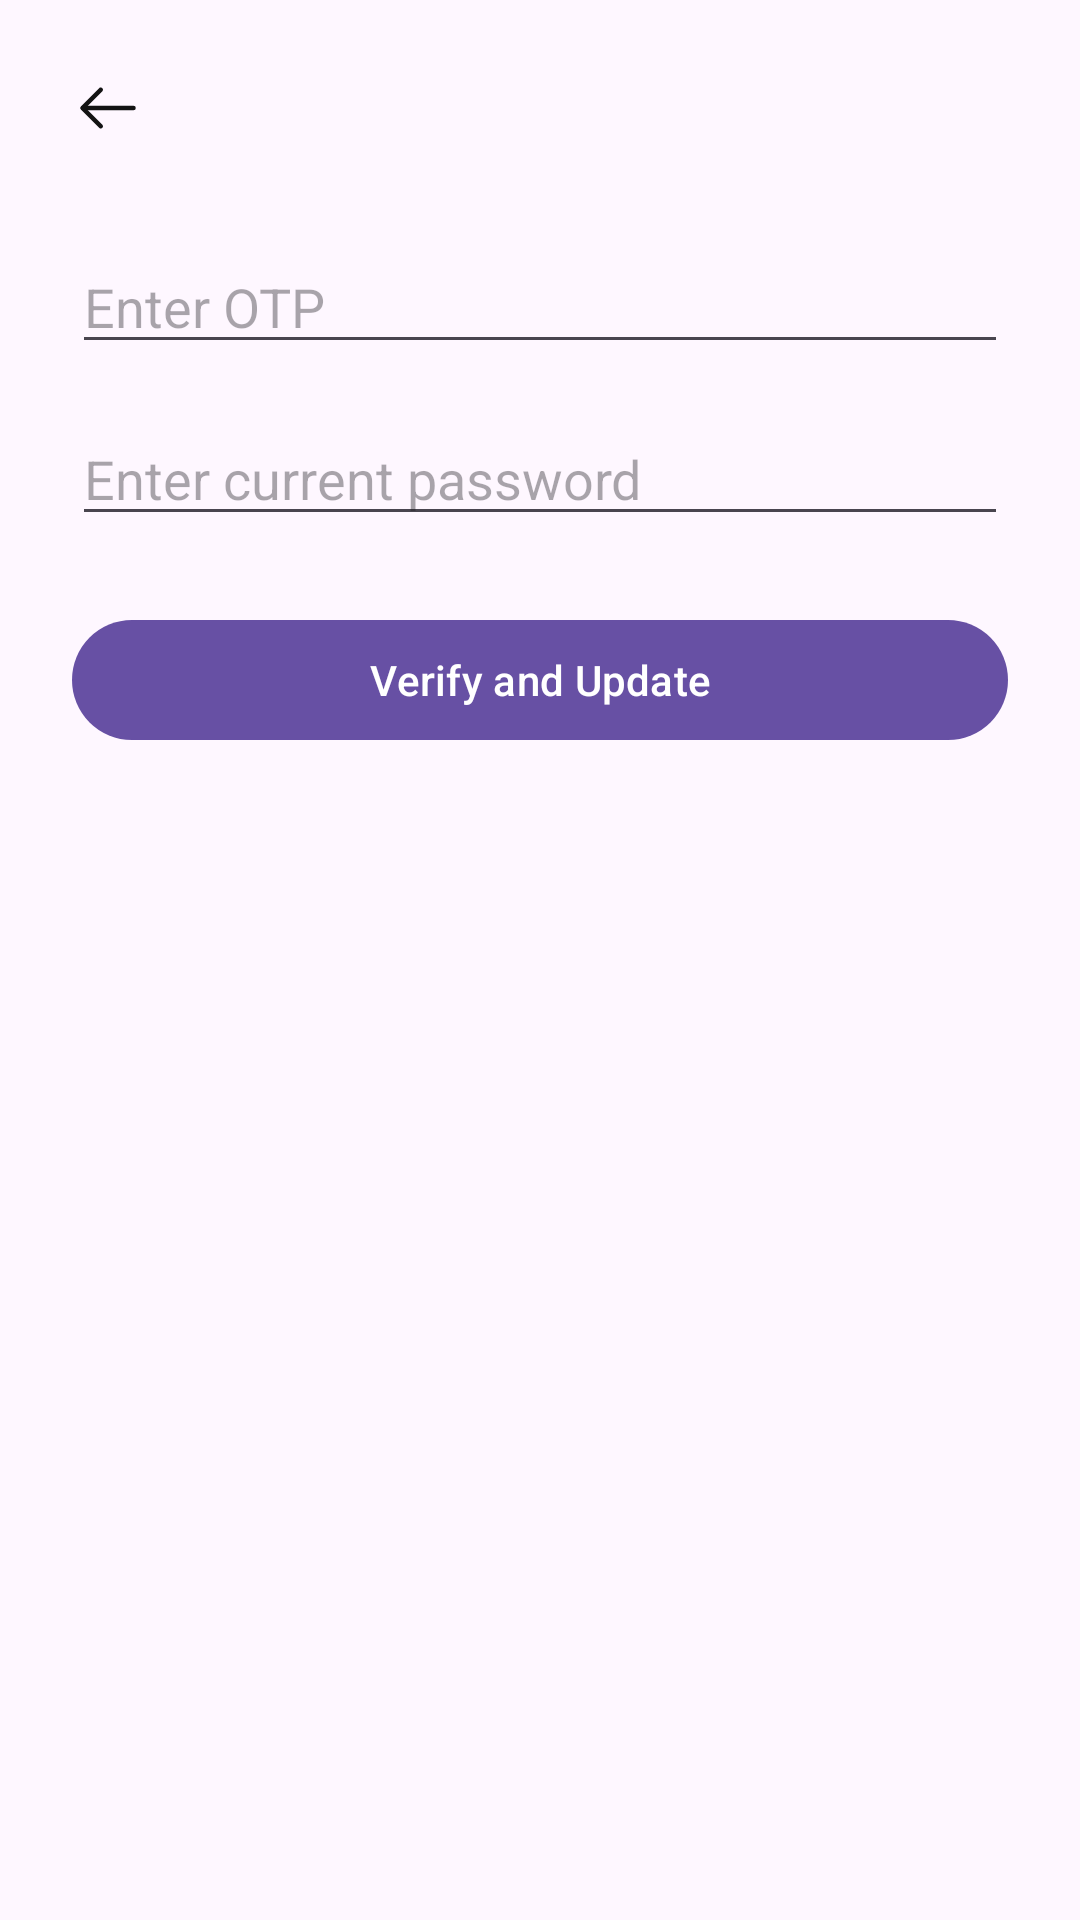

Where to tap for icons on this 1080*1920 app screen, as (x,y):
back: (108,108)
